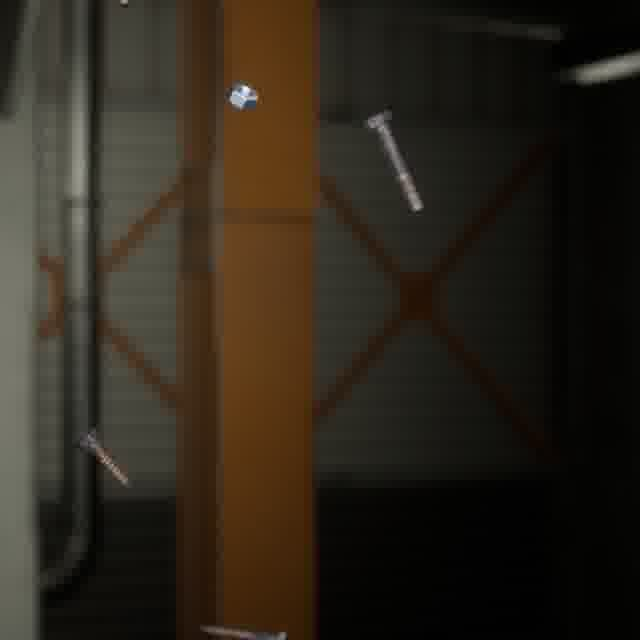bolt: (359, 106, 428, 216), (70, 422, 134, 490)
nut: (223, 79, 262, 114)
